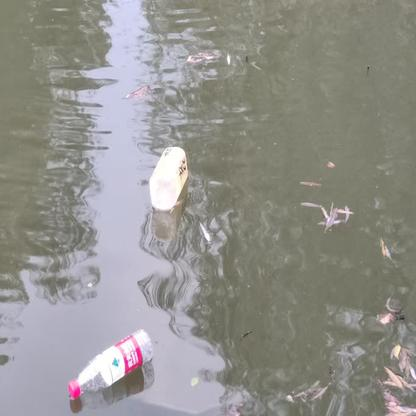plastic bottle: (66, 329, 152, 399), (148, 146, 189, 211)
